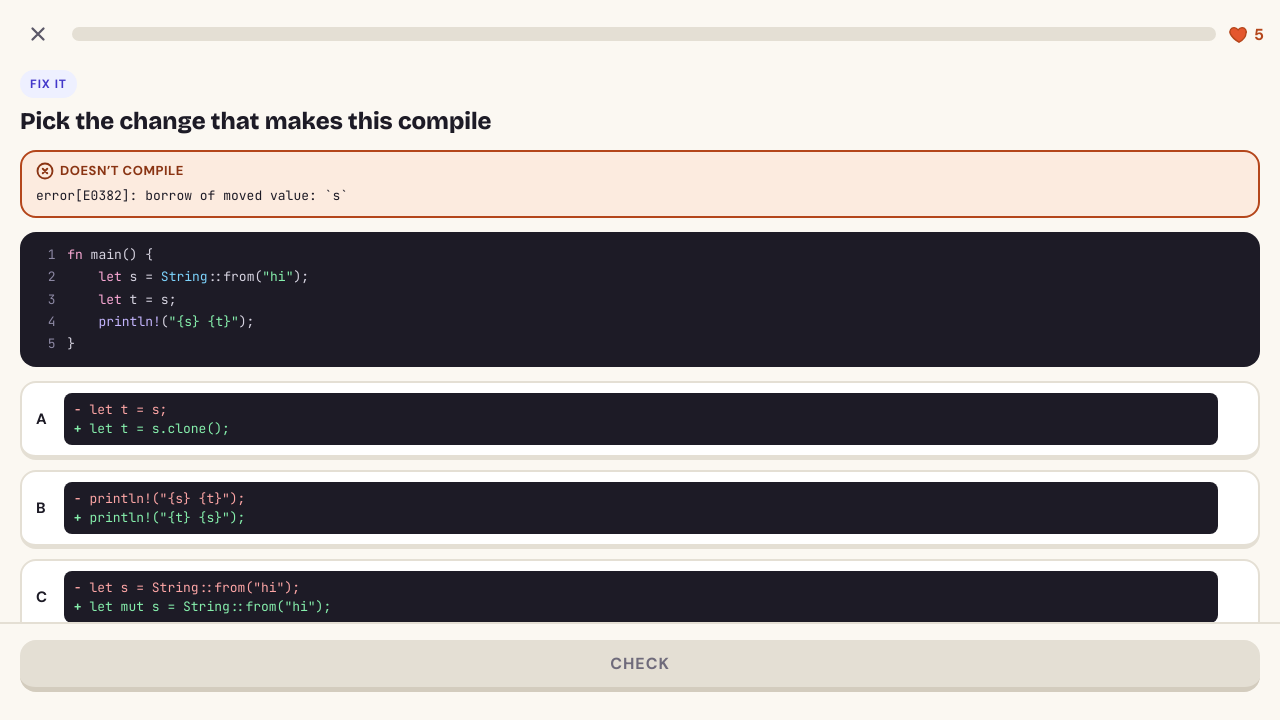
Test: Fix it (Rust) › shows the compiler error first and each fix as a readable diff
Check: the element named "Compiler error" shows "Doesn’t compile", box x1=60 y1=162 x2=184 y2=179
Check: the element named "Compiler error" shows "E0382", box x1=36 y1=187 x2=348 y2=204
Click the button with aria-label "Option A: change “let t = s;” to “let t = s.clone();”" at (640, 420), box x1=20 y1=381 x2=1260 y2=460
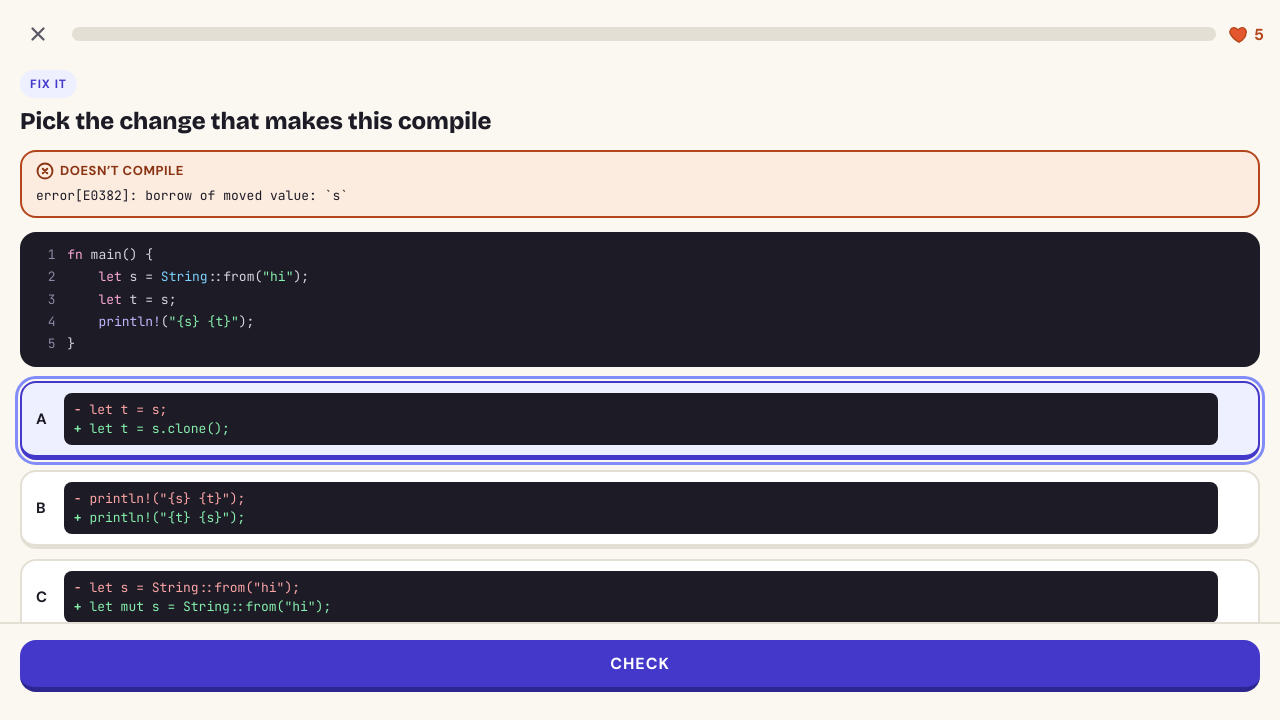
Click the button "Check" at (640, 666), box x1=20 y1=640 x2=1260 y2=692
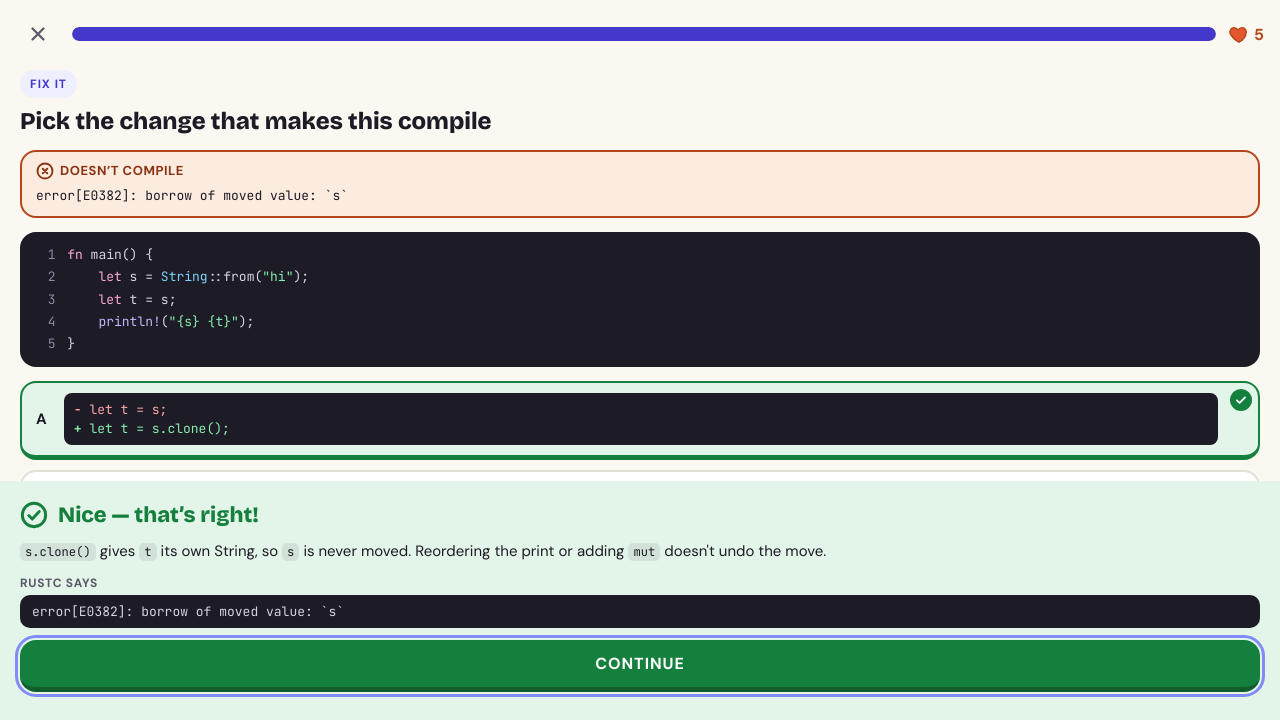
Check: the element named "Feedback" shows "Nice — that’s right!", box x1=58 y1=502 x2=259 y2=528
